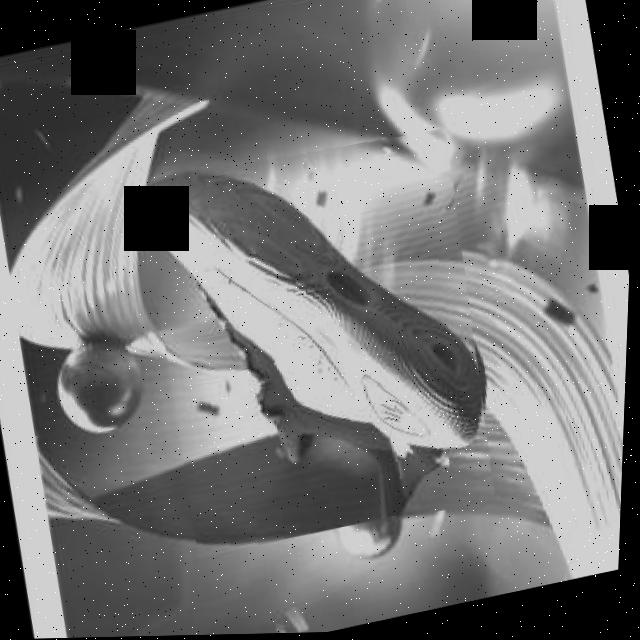shoe: (130, 118, 518, 560)
